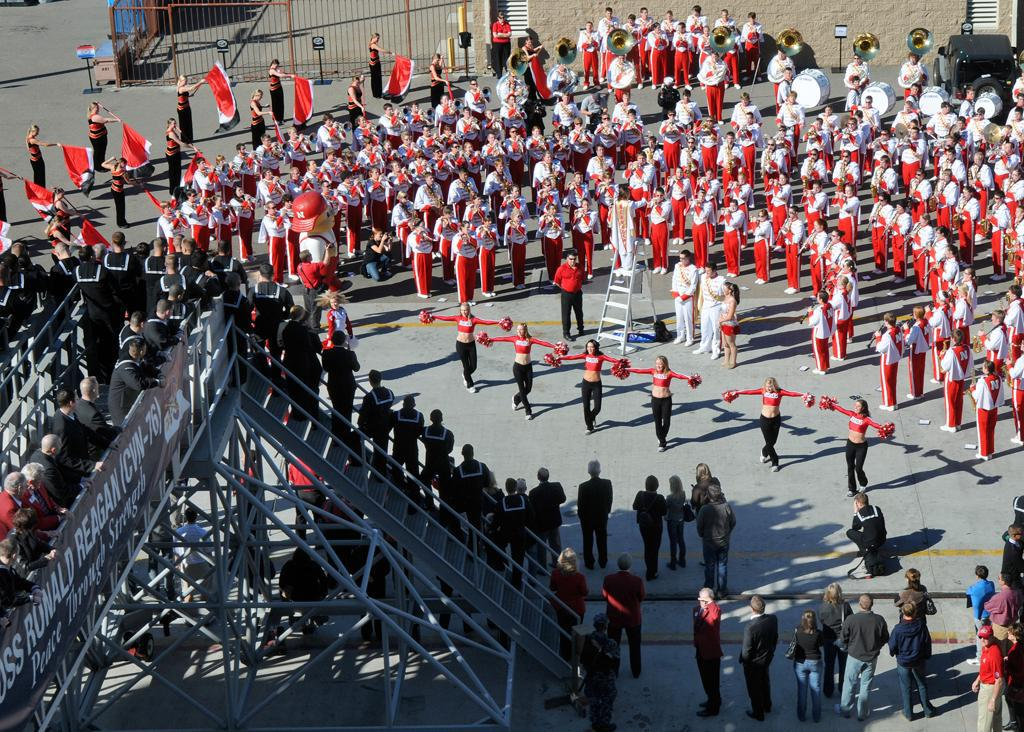face: (30, 472, 44, 490), (50, 441, 63, 456), (981, 634, 991, 647), (1007, 626, 1015, 640), (706, 266, 716, 276), (681, 255, 690, 266), (656, 360, 665, 371), (587, 343, 595, 355), (766, 384, 775, 394), (330, 299, 339, 309), (789, 209, 797, 220), (815, 221, 823, 232), (844, 262, 852, 273), (517, 326, 525, 337), (461, 306, 469, 317), (568, 254, 576, 265), (992, 313, 1000, 324), (832, 232, 839, 244), (1016, 529, 1023, 541), (434, 148, 443, 157), (309, 161, 317, 171), (268, 204, 276, 214), (285, 198, 293, 208), (164, 204, 172, 214), (727, 135, 735, 145), (846, 187, 854, 197), (576, 174, 584, 184), (549, 206, 557, 216), (656, 192, 664, 202), (724, 285, 732, 295), (945, 248, 953, 258), (1009, 289, 1017, 299), (842, 246, 849, 257), (291, 130, 299, 139), (199, 160, 207, 169), (427, 176, 435, 185), (496, 163, 504, 172), (741, 97, 749, 106), (813, 184, 821, 193), (638, 156, 646, 165), (236, 188, 243, 198), (424, 127, 431, 137), (404, 135, 411, 145), (853, 402, 860, 412), (376, 231, 383, 241), (513, 187, 520, 197), (779, 127, 786, 137), (768, 140, 775, 150), (880, 160, 887, 170), (843, 153, 850, 163), (811, 151, 818, 161), (942, 105, 949, 115), (948, 151, 955, 161), (917, 171, 924, 181), (779, 175, 786, 185), (583, 201, 590, 211), (731, 203, 738, 213), (964, 190, 971, 200), (1006, 144, 1013, 154), (1016, 208, 1023, 218), (920, 216, 927, 226), (964, 270, 971, 280), (826, 108, 833, 118), (257, 93, 264, 102), (240, 146, 247, 155), (265, 138, 272, 147), (190, 192, 197, 201), (387, 107, 394, 116), (327, 117, 334, 126), (373, 171, 380, 180), (345, 175, 352, 184), (515, 213, 522, 222), (642, 10, 649, 19), (688, 139, 695, 148), (912, 86, 919, 95), (866, 99, 873, 108), (853, 79, 860, 88), (881, 131, 888, 140), (906, 100, 913, 109), (848, 121, 855, 130), (815, 121, 822, 130), (944, 171, 951, 180), (555, 133, 562, 142), (511, 129, 518, 138), (546, 154, 553, 163), (759, 213, 766, 222), (879, 197, 886, 206), (1013, 172, 1020, 181), (975, 155, 982, 164), (995, 194, 1002, 203), (937, 229, 944, 238), (511, 75, 518, 84), (324, 184, 331, 193), (970, 89, 976, 99), (911, 123, 917, 133), (265, 170, 272, 178), (412, 105, 419, 113), (467, 144, 474, 152), (418, 156, 425, 164), (402, 195, 409, 203), (446, 210, 453, 218), (564, 95, 571, 103), (603, 116, 610, 124), (684, 94, 691, 102), (649, 140, 656, 148), (790, 94, 797, 102), (911, 129, 918, 137), (576, 121, 583, 129), (545, 183, 552, 191), (605, 177, 612, 185), (93, 105, 99, 114), (293, 170, 299, 179), (472, 81, 478, 90), (465, 109, 471, 118), (374, 35, 380, 44), (453, 144, 459, 153), (489, 134, 495, 143), (464, 224, 470, 233), (509, 97, 515, 106), (707, 118, 713, 127), (958, 120, 964, 129), (779, 51, 785, 60), (598, 148, 604, 157), (676, 169, 682, 178), (977, 111, 983, 120), (394, 164, 401, 171), (486, 219, 493, 226), (712, 55, 719, 62), (561, 71, 568, 78), (182, 77, 188, 85), (171, 120, 177, 128), (58, 192, 64, 200), (218, 158, 224, 166), (274, 61, 280, 69), (486, 111, 492, 119), (443, 97, 449, 105), (446, 128, 452, 136), (360, 118, 366, 126), (367, 141, 373, 149), (386, 143, 392, 151), (330, 152, 336, 160), (462, 171, 468, 179), (722, 12, 728, 20), (629, 17, 635, 25), (607, 10, 613, 18), (747, 115, 753, 123), (910, 56, 916, 64), (854, 56, 860, 64), (786, 70, 792, 78), (534, 129, 540, 137), (707, 171, 713, 179), (699, 193, 705, 201), (739, 176, 745, 184), (1015, 111, 1021, 119), (1004, 127, 1010, 135), (897, 205, 903, 213), (1019, 96, 1024, 105), (998, 574, 1002, 585), (33, 130, 39, 137), (435, 57, 441, 64), (475, 198, 481, 205), (678, 26, 684, 33), (619, 57, 625, 64), (669, 113, 675, 120), (693, 11, 700, 17), (704, 29, 709, 37), (656, 25, 661, 33), (624, 97, 629, 105), (355, 80, 360, 87), (587, 24, 592, 31), (750, 17, 755, 24), (667, 14, 672, 21), (500, 16, 505, 22), (528, 39, 532, 46), (123, 163, 127, 169), (983, 363, 985, 374)
